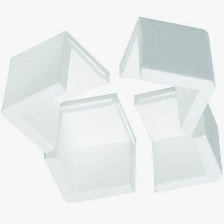foam_box: (0, 28, 113, 158), (115, 12, 218, 137), (36, 90, 139, 205), (131, 82, 224, 196)
